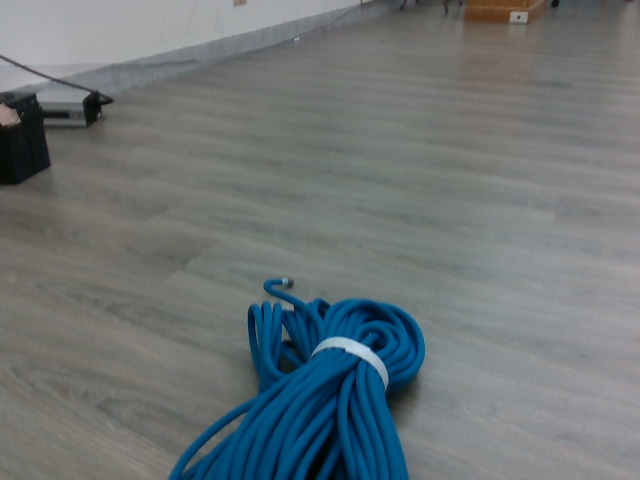rope: (165, 298, 436, 480)
